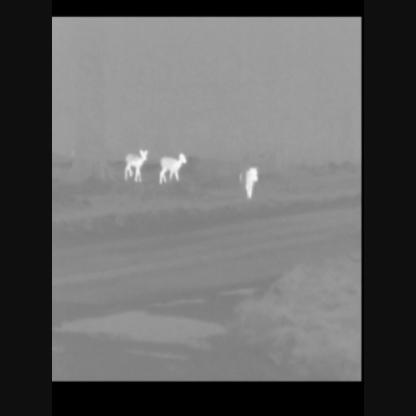rehkitze: (159, 155, 190, 186), (123, 149, 147, 185), (239, 165, 258, 204)
